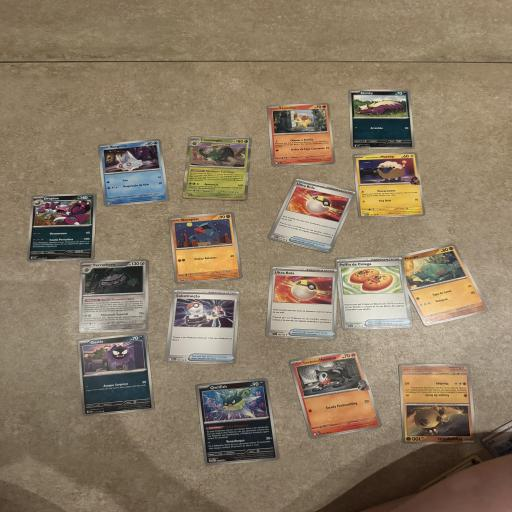card: (394, 230, 491, 339), (289, 340, 384, 448), (195, 375, 280, 470), (267, 173, 357, 257), (74, 332, 156, 418), (399, 360, 477, 449), (335, 251, 413, 335), (163, 288, 241, 365), (265, 264, 340, 341), (168, 210, 243, 286), (76, 259, 151, 333), (98, 138, 170, 208), (25, 194, 98, 262), (352, 152, 426, 219), (267, 100, 336, 169), (182, 135, 252, 201), (348, 89, 415, 149)
